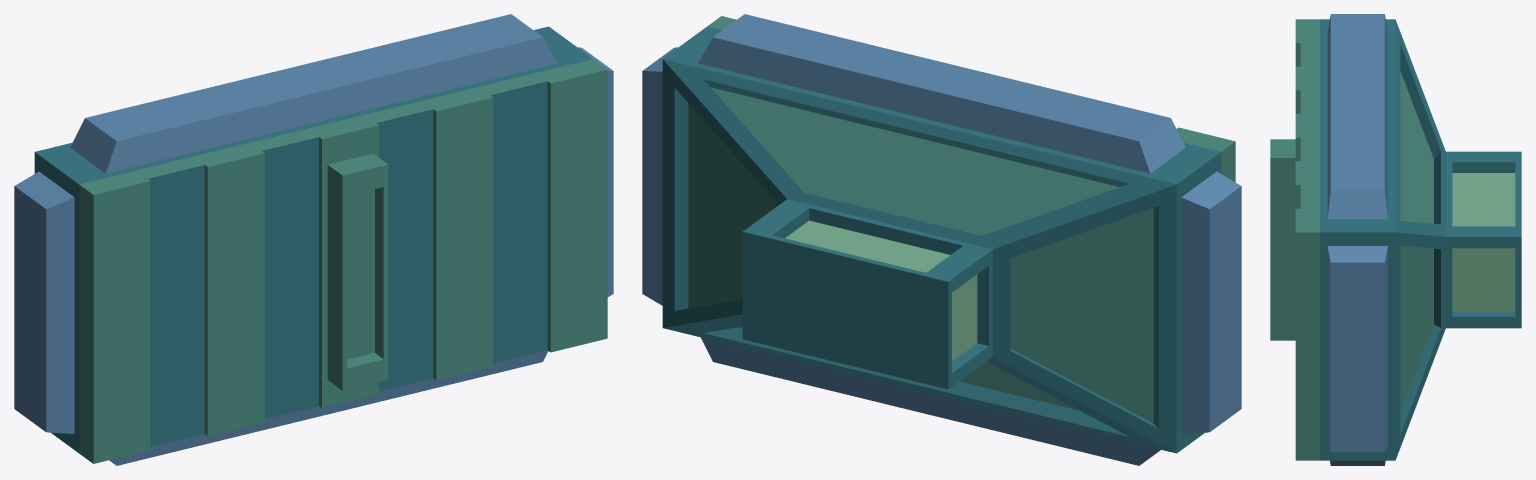
The model's file is lv4_boss_asset.fbx.
3 renders of one model, left to right at view 1: azimuth 30°, elevation 25°; view 2: azimuth 150°, elevation 25°; view 3: azimuth 270°, elevation 25°, orthographic. The views are drawn at different scales.
Visible parts, largest first — view 1: Lv4BossBody, Lv4BossGlass, Lv4BossGun; view 2: Lv4BossBody, Lv4BossGlass; view 3: Lv4BossBody, Lv4BossGlass, Lv4BossGun.
Boxes of the visible parts, x1,y1,x2,y2 form: Lv4BossBody: (34,26,607,463); Lv4BossGlass: (14,14,613,465); Lv4BossGun: (327,153,388,390); Lv4BossBody: (662,16,1235,453); Lv4BossGlass: (642,14,1241,465); Lv4BossBody: (1295,19,1521,460); Lv4BossGlass: (1327,14,1387,465); Lv4BossGun: (1270,139,1295,340).
Size of the model in its own units: 2207 by 1207 by 997.
